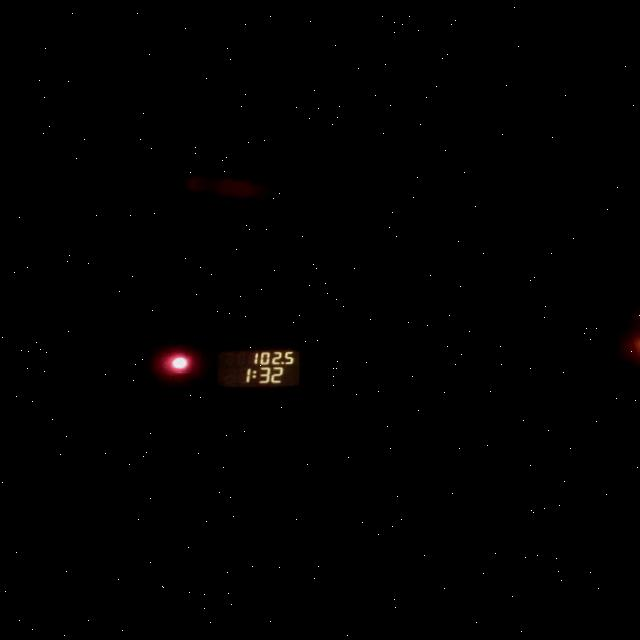odometer: (214, 346, 301, 388)
